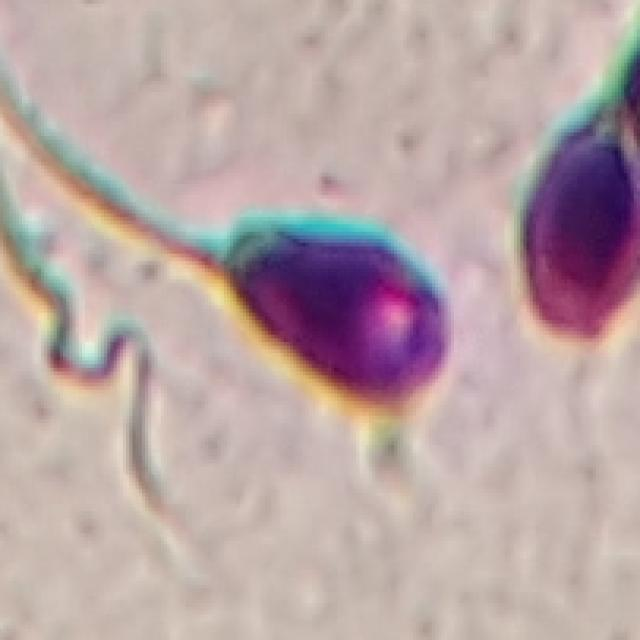normal sperm: (97, 177, 453, 411)
